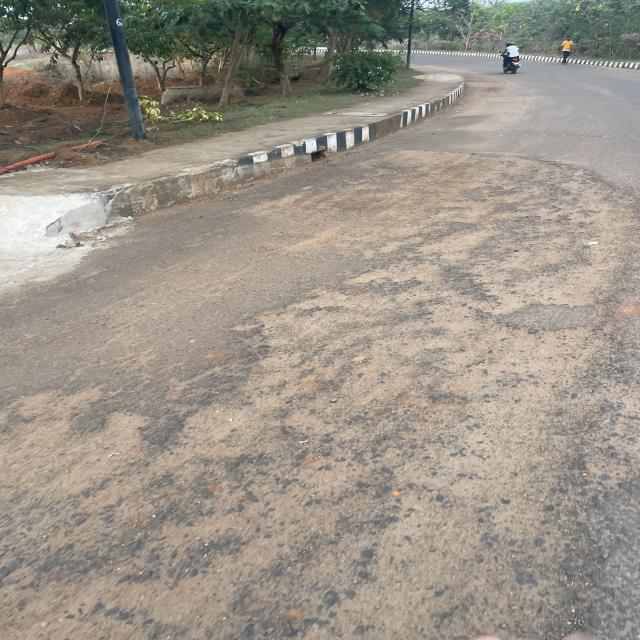D40: (254, 221, 531, 595)
